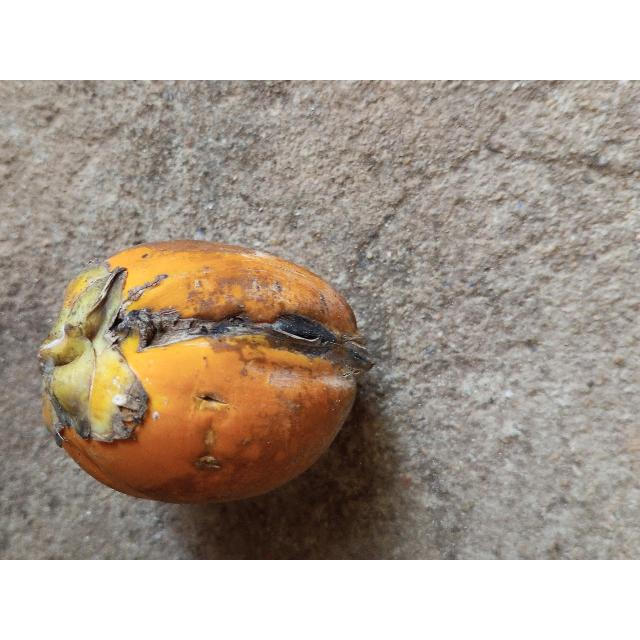damaged: (37, 240, 372, 507)
